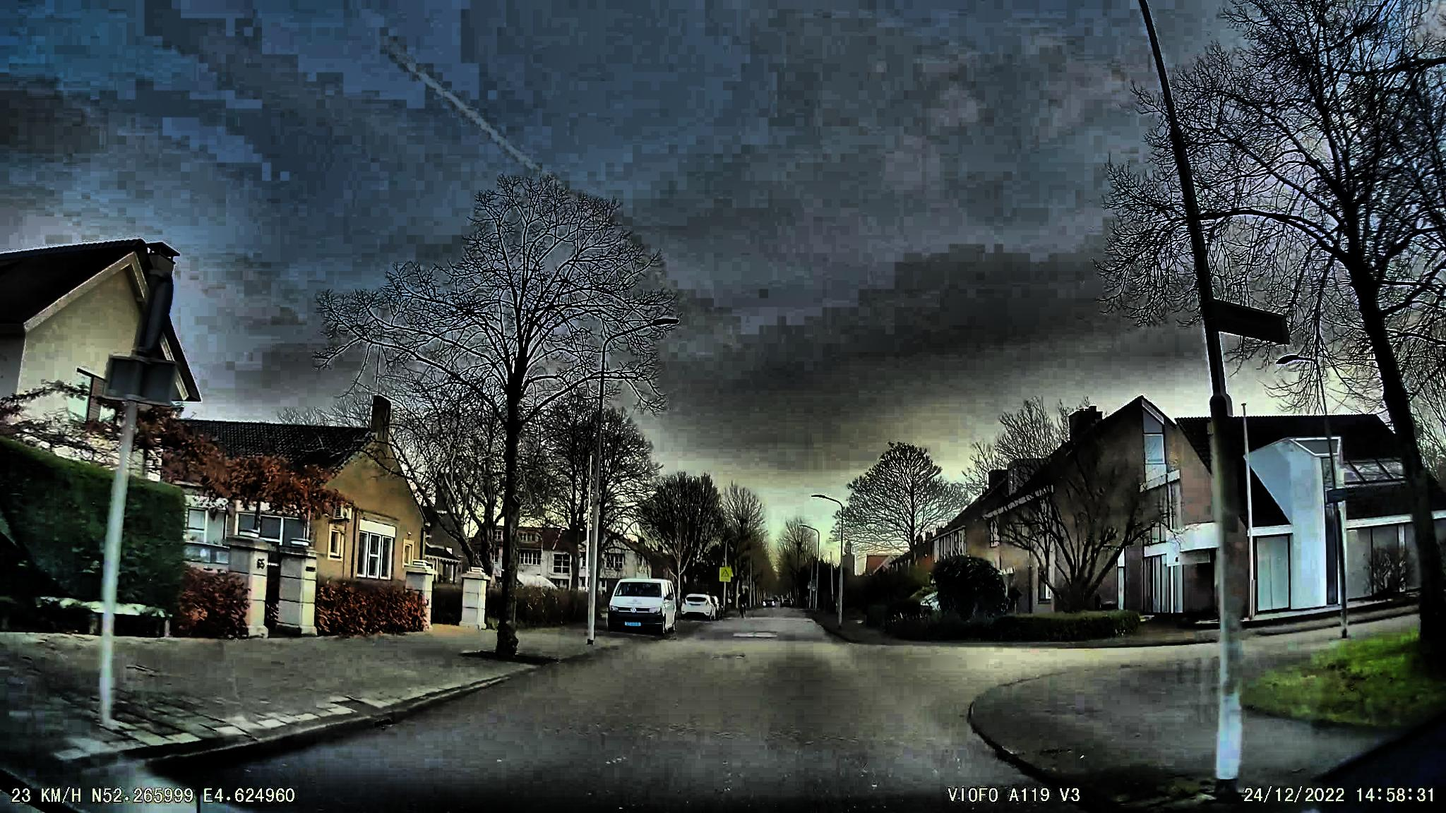Roads: (217, 616, 1112, 813)
